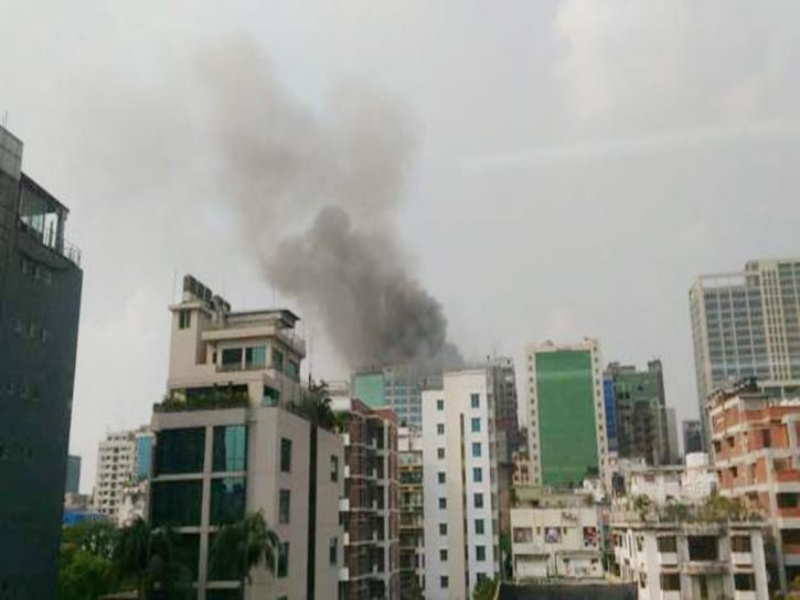smoke: (277, 231, 453, 372)
